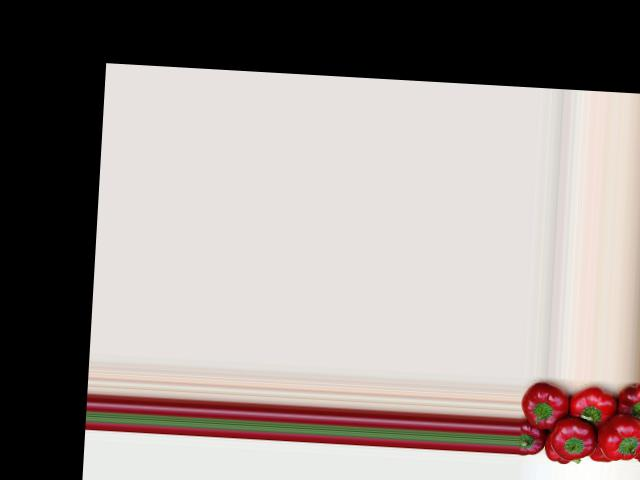bell_pepper: (589, 444, 609, 464)
